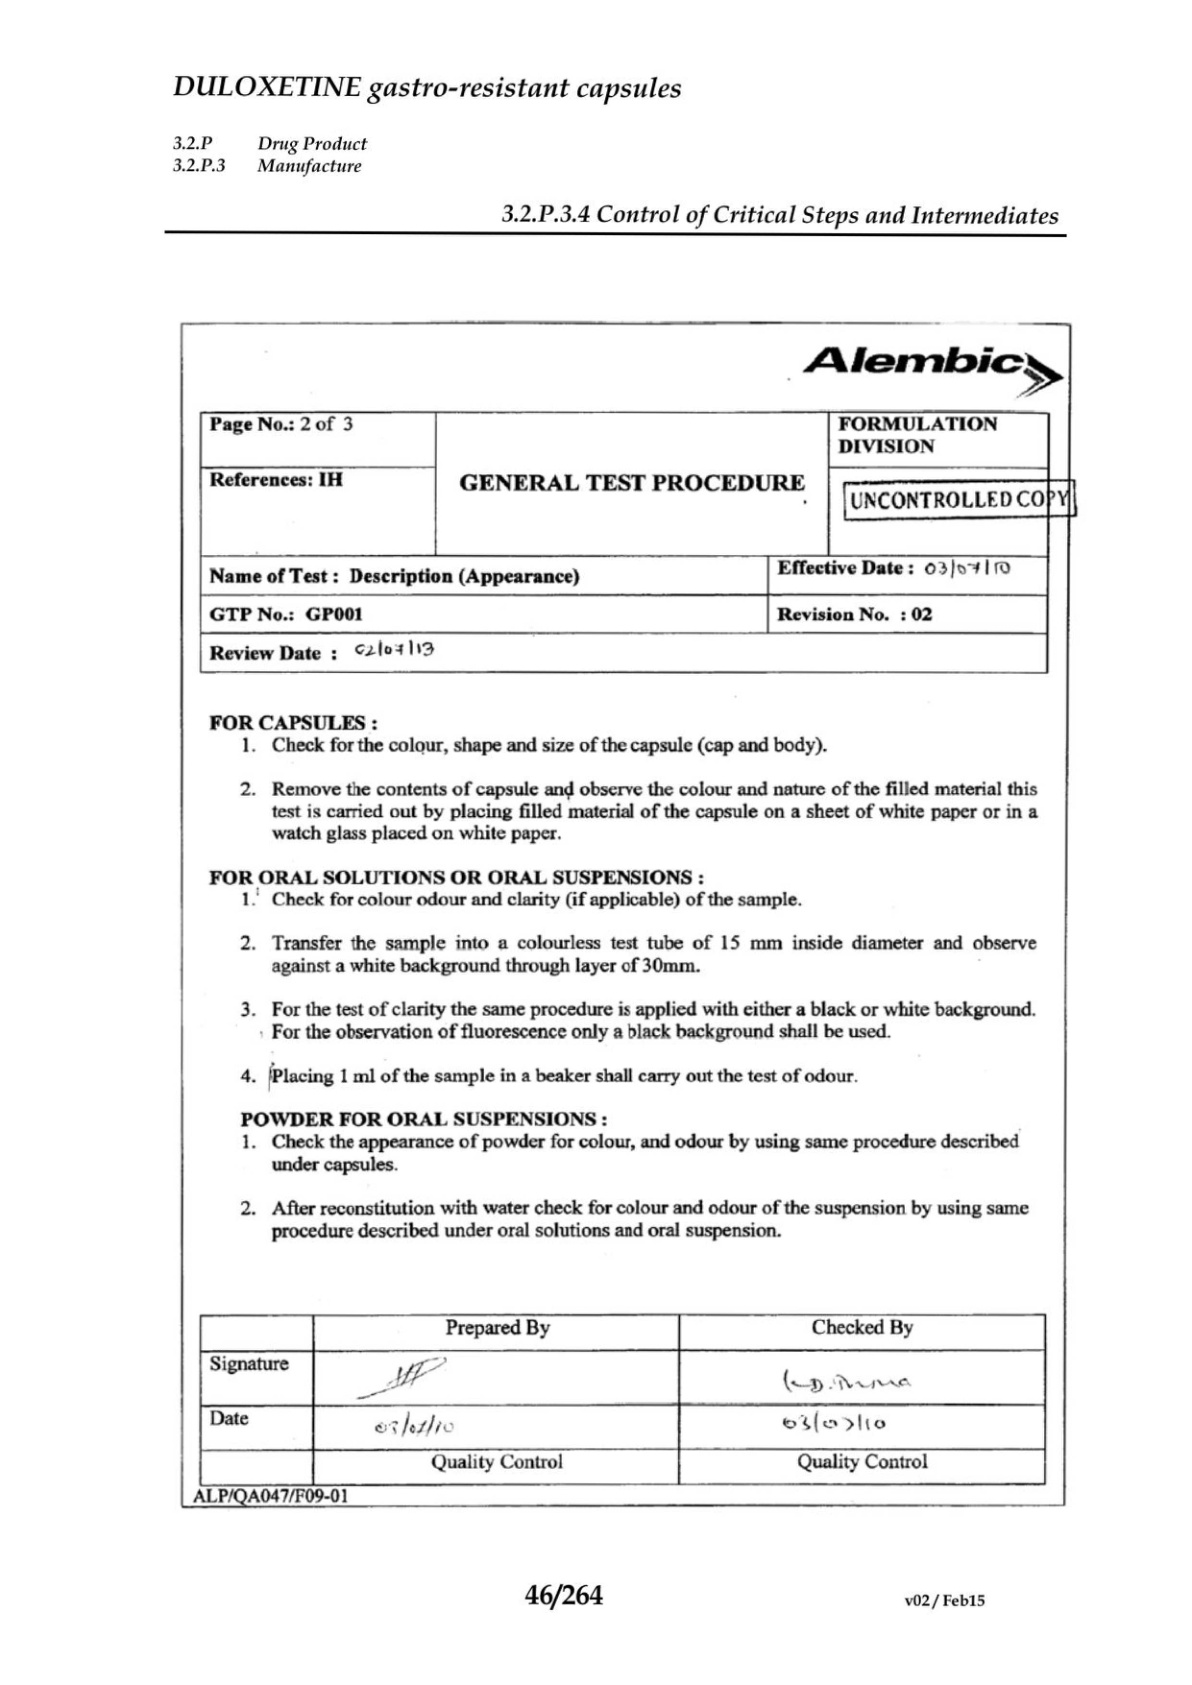full_lined: (197, 1312, 1048, 1488)
merged_cells: (199, 409, 1050, 675)
